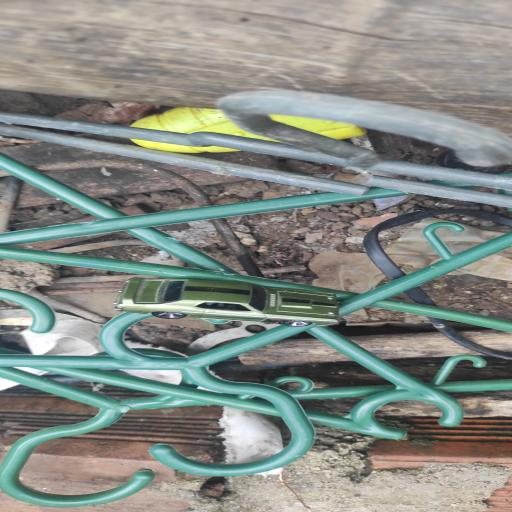Carrito: (115, 278, 336, 325)
